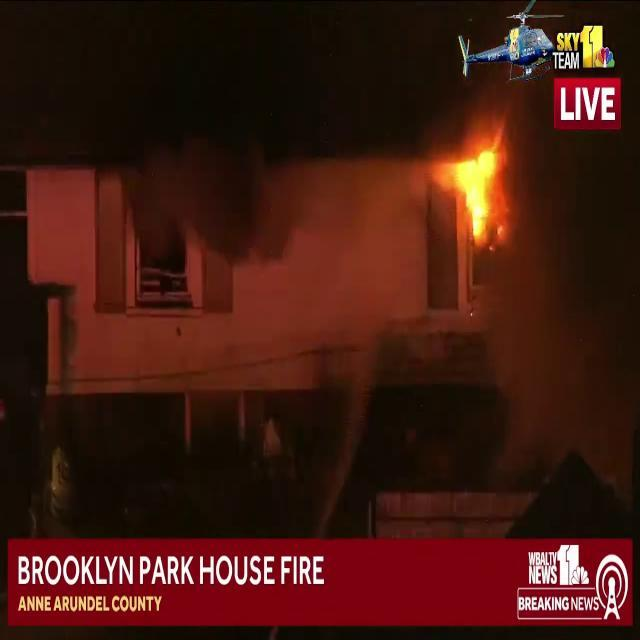Fire: (428, 124, 516, 243)
Smoke: (474, 118, 638, 456)
